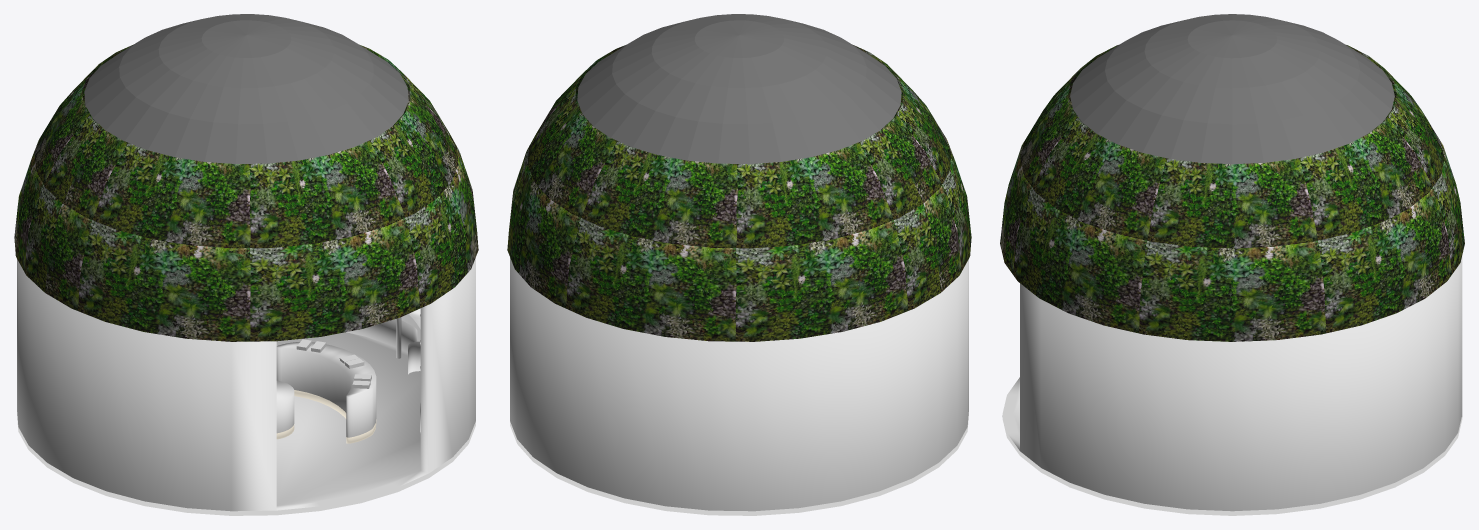
File: PopCylindre.glb
3 renders of one model, left to right at view 1: azimuth 30°, elevation 25°; view 2: azimuth 150°, elevation 25°; view 3: azimuth 270°, elevation 25°, orthographic.
Visible parts, largest first — view 1: Sphere, Circle.001, Sphere.001, Circle.003, Circle, Circle.006, Circle.004, Circle.005; view 2: Sphere, Circle.001, Sphere.001, Circle; view 3: Sphere, Circle.001, Sphere.001, Circle.
Part boxes in pixels (x1,y1,x2,y2): Sphere: (14,44,478,341); Circle.001: (17,257,475,511); Sphere.001: (84,14,408,163); Circle.003: (276,342,376,443); Circle: (17,412,475,515); Circle.006: (346,317,417,358); Circle.004: (276,380,294,439); Circle.005: (408,308,420,432); Sphere: (507,44,971,341); Circle.001: (510,257,968,511); Sphere.001: (577,14,901,163); Circle: (510,412,968,515); Sphere: (1000,45,1464,341); Circle.001: (1002,256,1462,511); Sphere.001: (1070,14,1394,164); Circle: (1002,415,1462,515).
Size of the model in its own units: 0.9282 by 0.8447 by 0.9282.
Materials: 4 (2 with a texture image).
